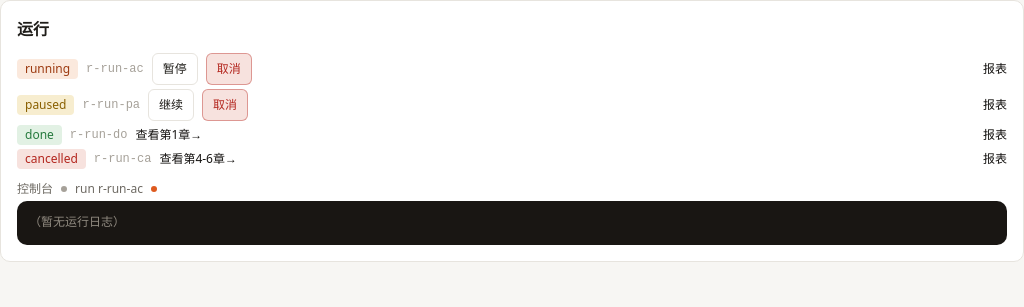
RunAsideCard › 动作失败显示错误文案
Click the button "暂停" at (175, 69), box [152,53,198,85]
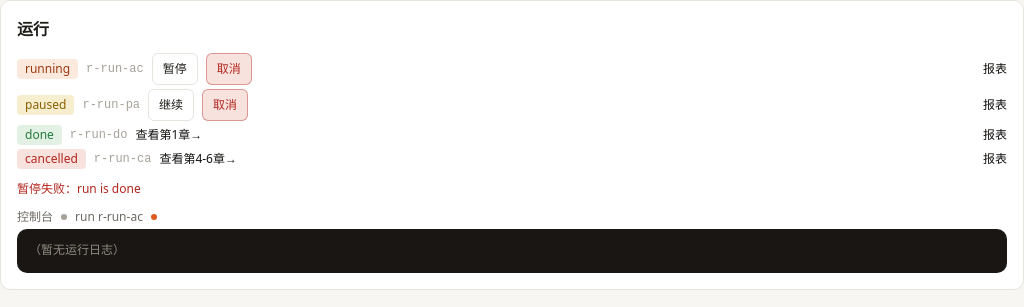
Expected: the text "暂停失败：run is done" is shown, [17,180,141,197]
